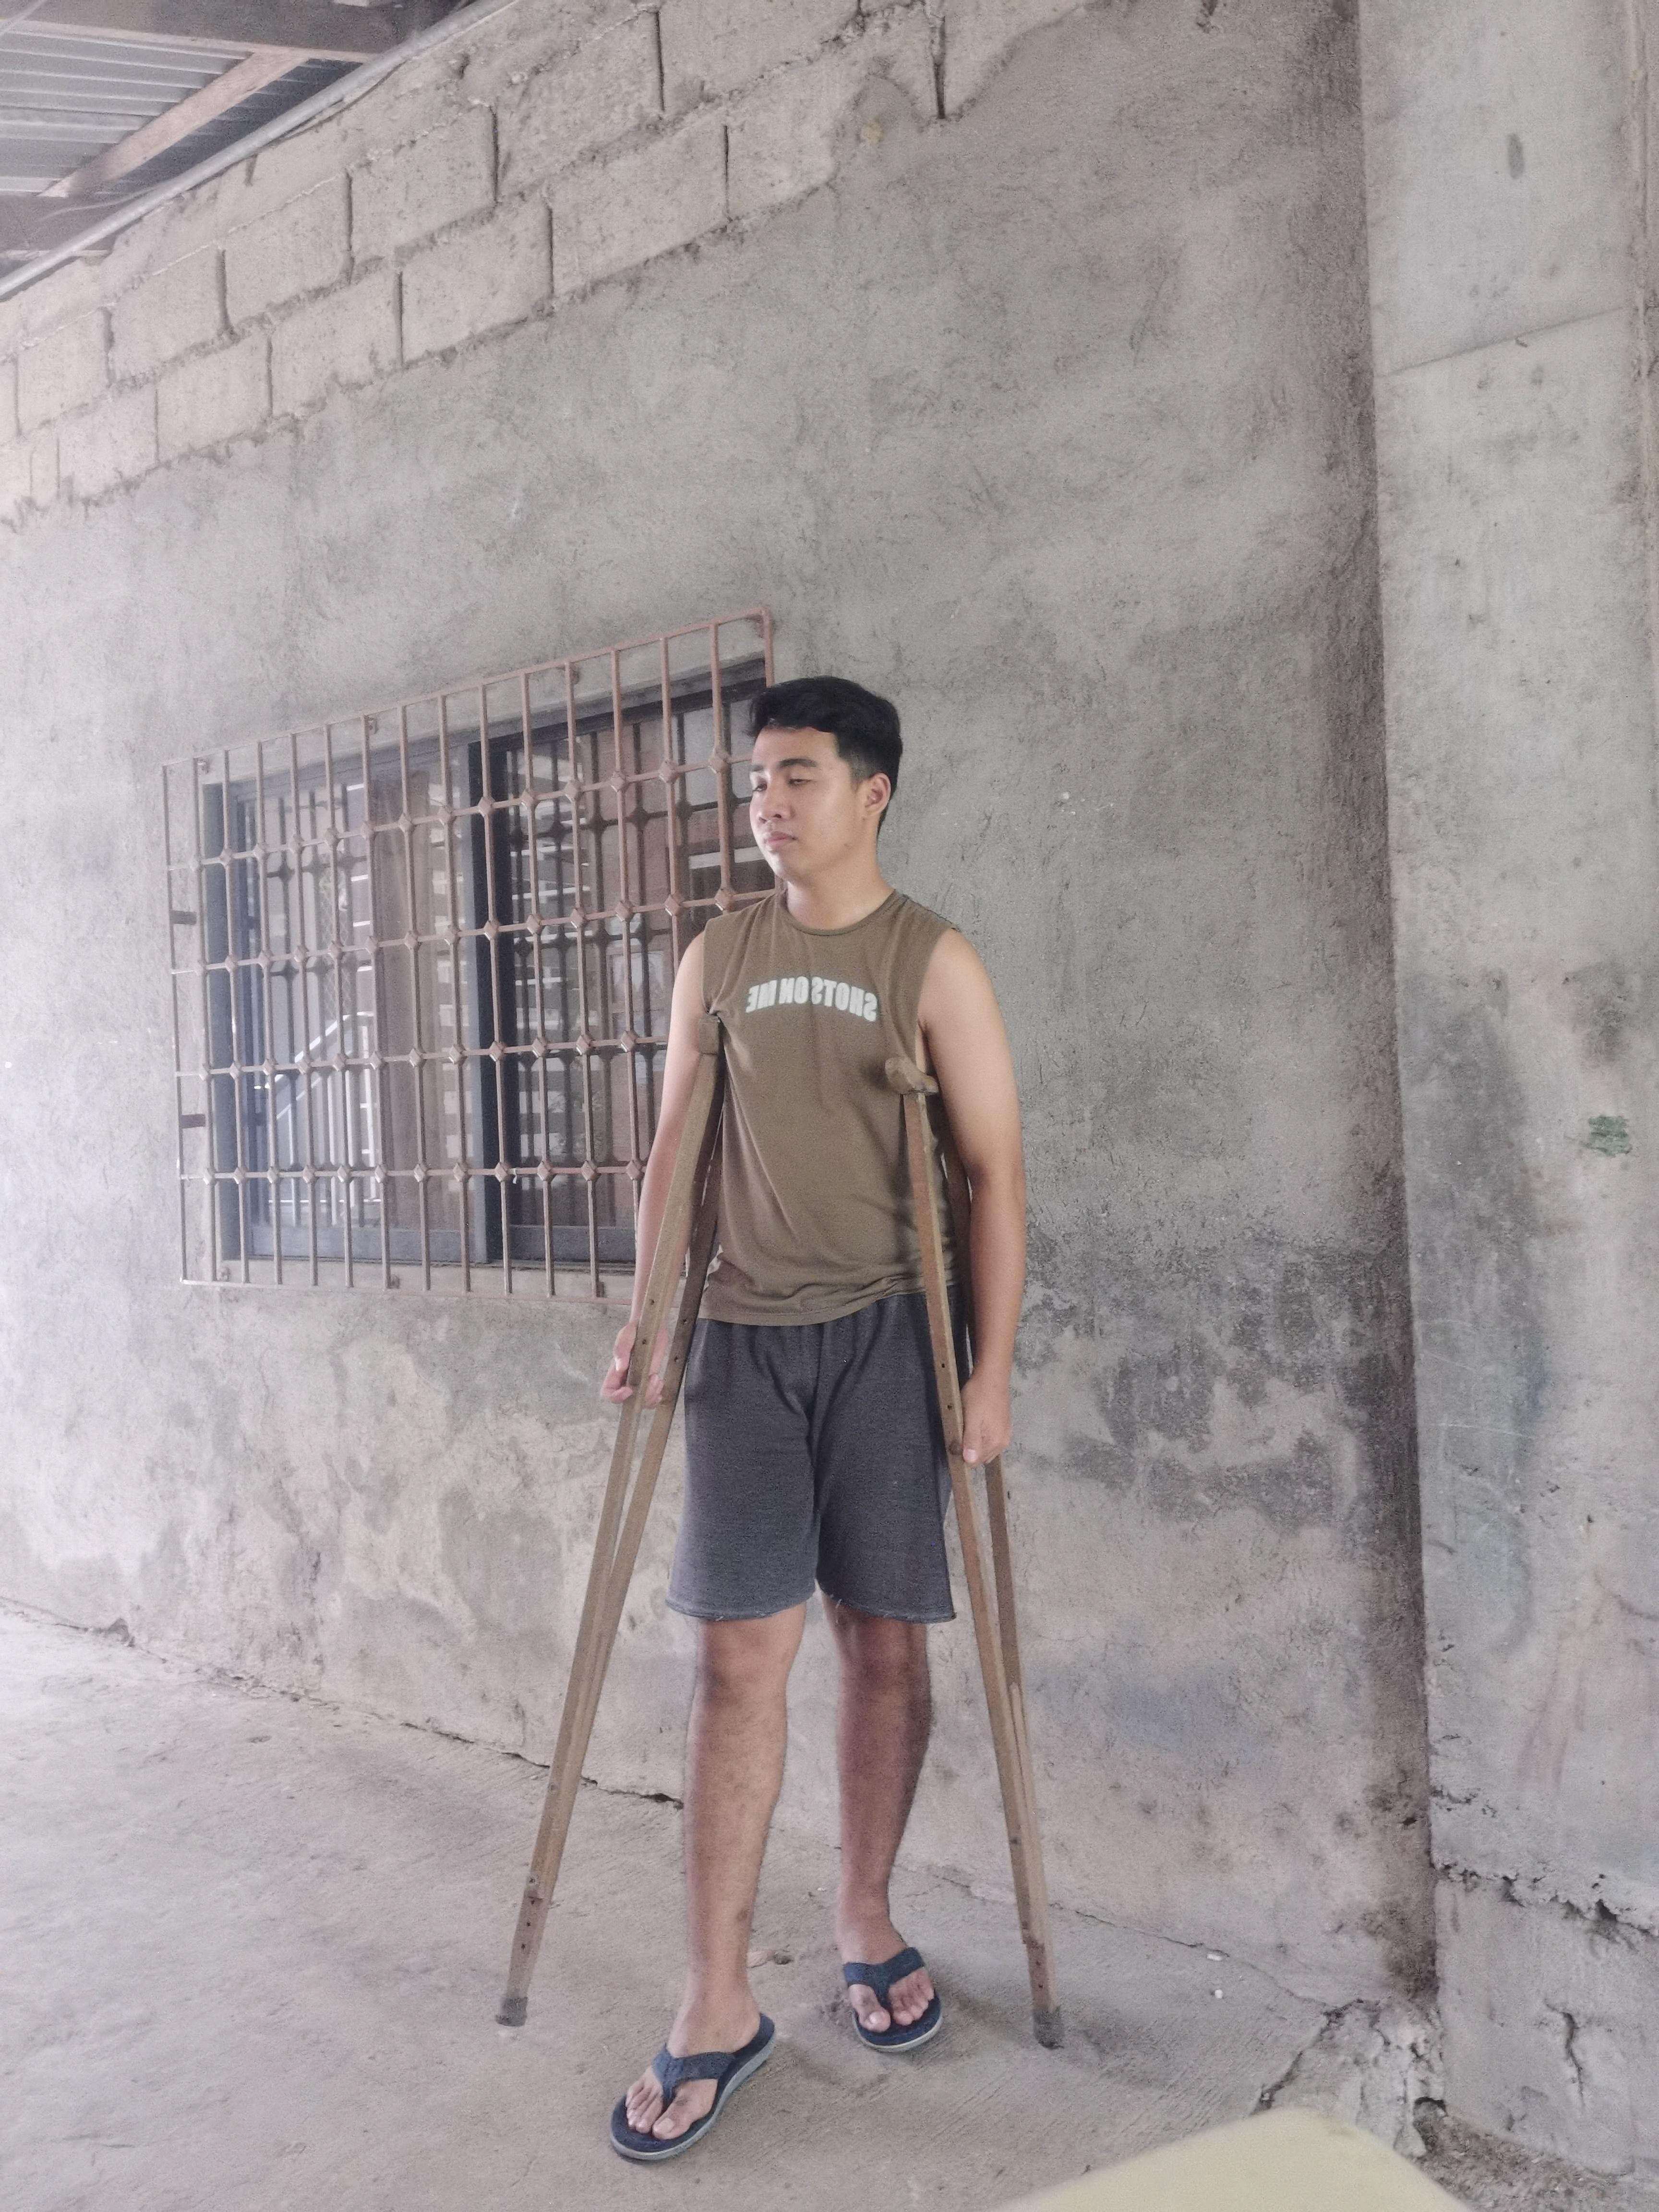crutches: (486, 664, 1086, 2177)
